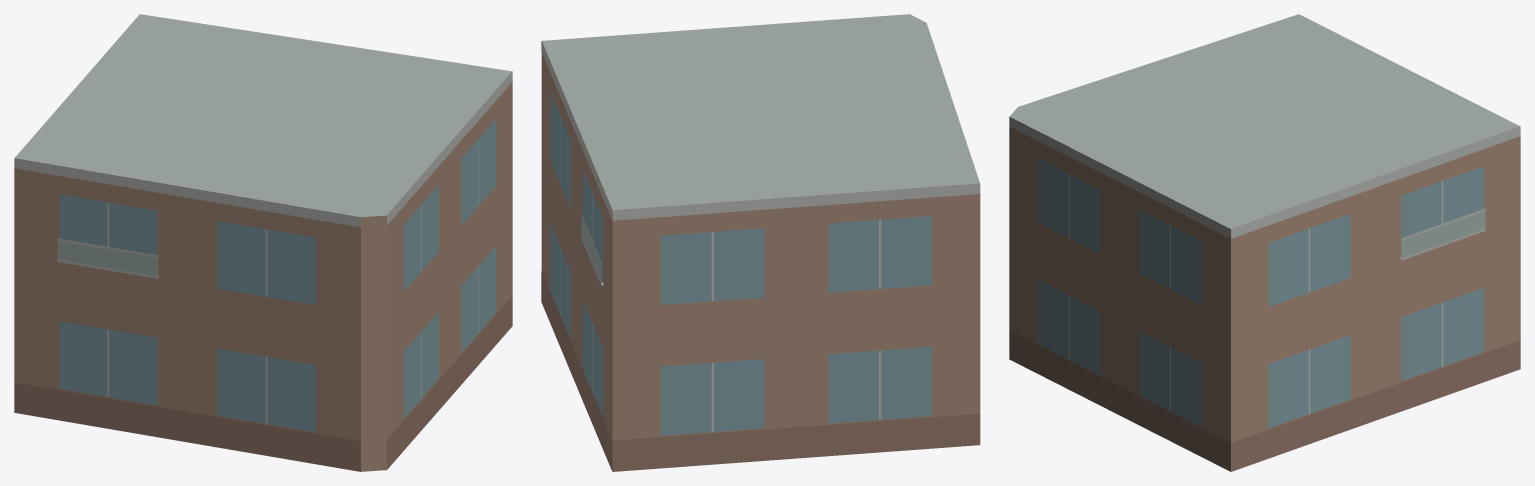
Rendered from survey-upis-32683042.glb.
The picture shows the model from 3 angles, left to right: view 1: azimuth 30°, elevation 25°; view 2: azimuth 150°, elevation 25°; view 3: azimuth 270°, elevation 25°; orthographic projection. The views are drawn at different scales.
Parts seen in each view (by area): view 1: survey-upis-32683042.tmp; view 2: survey-upis-32683042.tmp; view 3: survey-upis-32683042.tmp.
Boxes of the visible parts, x1,y1,x2,y2 form: survey-upis-32683042.tmp: [14, 14, 512, 471]; survey-upis-32683042.tmp: [541, 14, 980, 471]; survey-upis-32683042.tmp: [1009, 14, 1520, 471].
Size of the model in its own units: 11.61 by 6.1 by 11.65.
